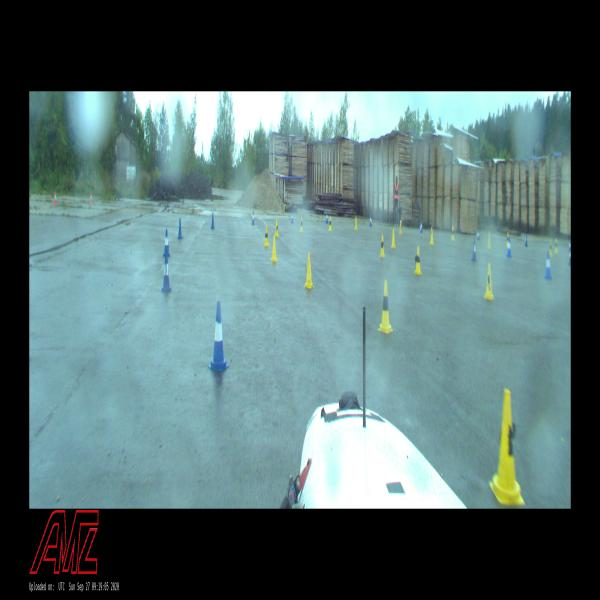blue_cone: (208, 300, 230, 372), (162, 257, 171, 293), (545, 250, 552, 280), (163, 229, 170, 256), (472, 240, 478, 263), (178, 218, 182, 240), (507, 238, 511, 258), (211, 213, 215, 229), (251, 210, 255, 226), (524, 234, 528, 247), (325, 211, 329, 224), (291, 210, 294, 224), (369, 215, 372, 228), (477, 229, 480, 240), (420, 219, 422, 234), (568, 252, 570, 267), (568, 240, 570, 252)
orange_cone: (54, 191, 57, 205), (90, 192, 93, 203)
yellow_cone: (490, 391, 524, 507), (378, 278, 393, 334), (304, 251, 314, 290), (484, 262, 494, 300), (414, 246, 422, 276), (271, 237, 278, 263), (379, 234, 385, 258), (391, 228, 396, 249), (429, 227, 434, 246), (264, 225, 268, 246), (274, 218, 278, 238), (487, 230, 491, 249), (299, 216, 303, 233), (398, 219, 402, 236), (328, 216, 332, 232), (450, 225, 454, 241), (506, 231, 509, 248), (549, 240, 552, 256), (355, 215, 358, 230), (555, 236, 557, 254)
